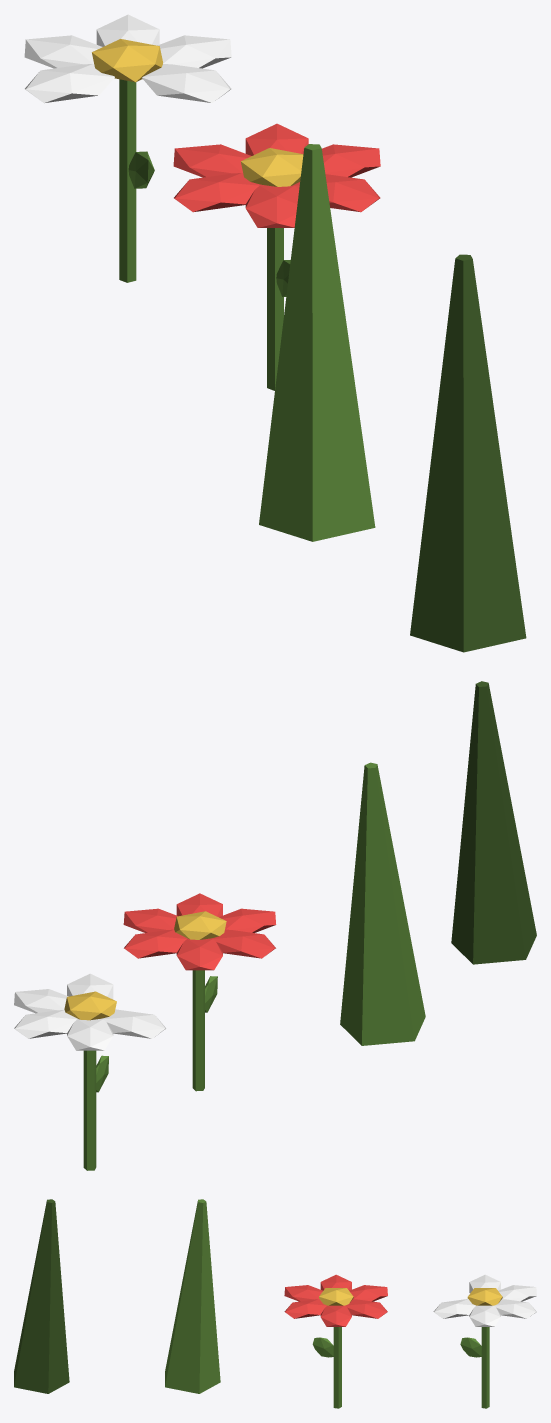
The model's file is Flowers.fbx.
The picture shows the model from 3 angles, top to bottom: view 1: azimuth 30°, elevation 25°; view 2: azimuth 150°, elevation 25°; view 3: azimuth 270°, elevation 25°; orthographic projection. The views are drawn at different scales.
Visible parts, largest first — view 1: Grass3, Grass2, Flower2, Flower3; view 2: Grass3, Grass2, Flower3, Flower2; view 3: Grass2, Grass3, Flower3, Flower2.
Part boxes in pixels (box(x1,y1,x2,y2)): Grass3: box(410, 254, 526, 652); Grass2: box(259, 144, 375, 541); Flower2: box(24, 14, 231, 282); Flower3: box(173, 123, 380, 390); Grass3: box(451, 681, 536, 964); Grass2: box(340, 762, 425, 1045); Flower3: box(123, 893, 276, 1091); Flower2: box(14, 973, 166, 1170); Grass2: box(165, 1199, 220, 1393); Grass3: box(14, 1199, 69, 1393); Flower3: box(284, 1274, 387, 1408); Flower2: box(433, 1274, 536, 1408).
Size of the model in its own units: 1.79 by 2.43 by 6.29.
